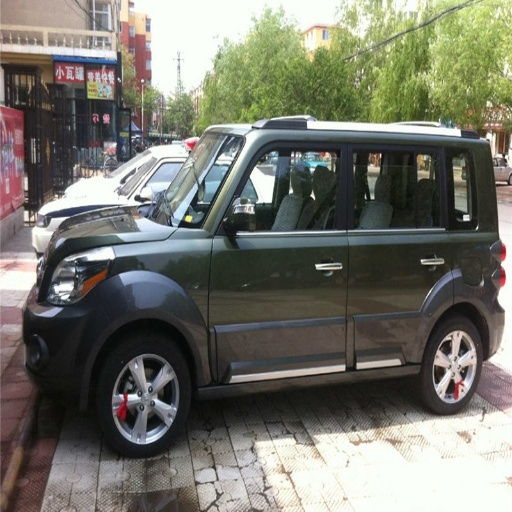back_left_door: (307, 138, 453, 362)
front_glass: (191, 136, 244, 190), (124, 158, 196, 192)
front_left_door: (209, 140, 350, 380)
